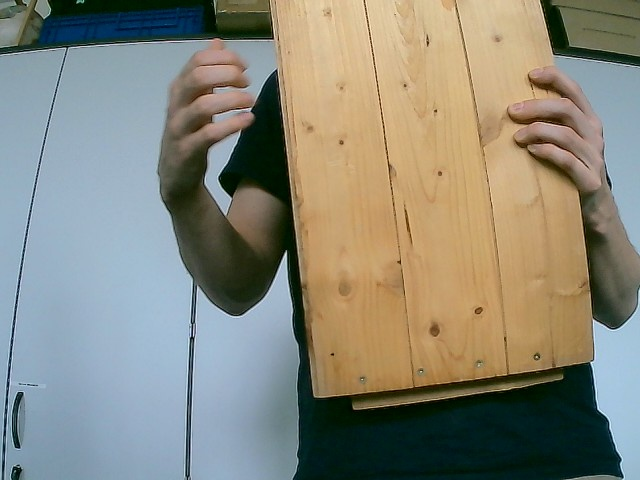no_gesture: (156, 36, 256, 203), (506, 65, 609, 197)
